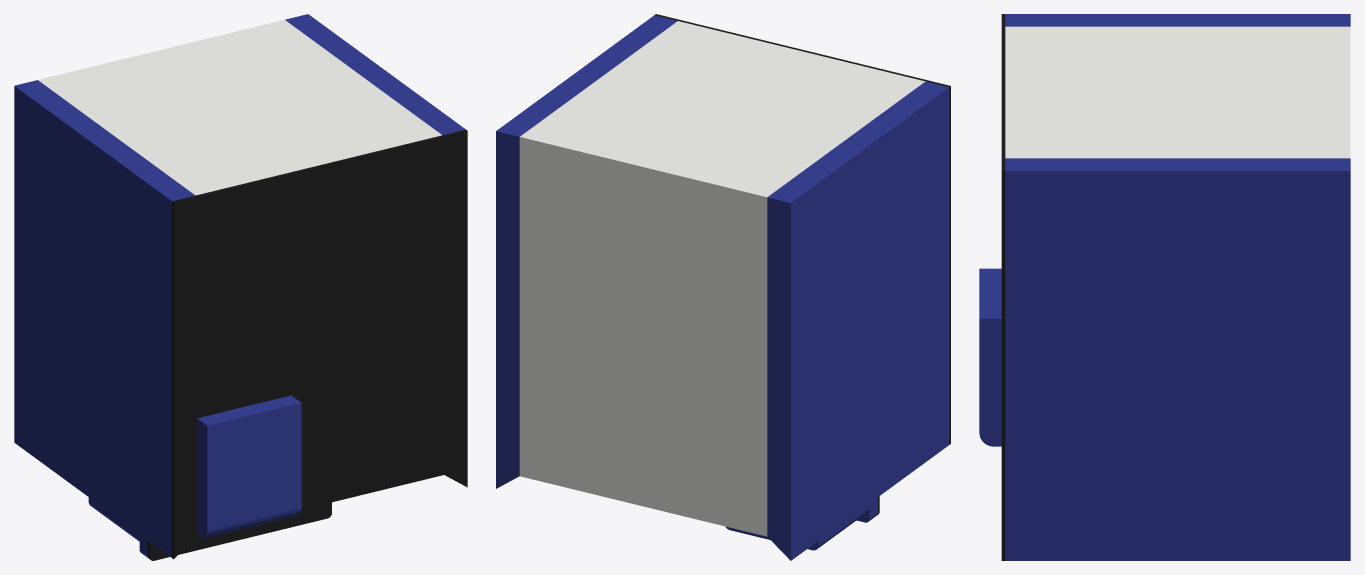
File: Analisis quimico v8.fbx
3 renders of one model, left to right at view 1: azimuth 30°, elevation 25°; view 2: azimuth 150°, elevation 25°; view 3: azimuth 270°, elevation 25°, orthographic. The views are drawn at different scales.
Parts seen in each view (by area): view 1: Body7, Body1, Body3, Body6, Body2, Body10; view 2: Body3, Body1, Body2, Body7, Body5; view 3: Body2, Body3, Body1, Body6, Body7.
Boxes of the visible parts, x1=… form: Body7: x1=172, y1=129, x2=467, y2=559; Body1: x1=14, y1=80, x2=195, y2=557; Body3: x1=38, y1=20, x2=441, y2=195; Body6: x1=197, y1=395, x2=301, y2=538; Body2: x1=285, y1=14, x2=465, y2=135; Body10: x1=148, y1=502, x2=331, y2=560; Body3: x1=519, y1=21, x2=925, y2=536; Body1: x1=767, y1=81, x2=949, y2=560; Body2: x1=496, y1=15, x2=677, y2=488; Body7: x1=654, y1=14, x2=950, y2=444; Body5: x1=725, y1=504, x2=869, y2=550; Body2: x1=1005, y1=158, x2=1350, y2=560; Body3: x1=1005, y1=26, x2=1350, y2=158; Body1: x1=1005, y1=14, x2=1350, y2=26; Body6: x1=979, y1=268, x2=1001, y2=446; Body7: x1=1001, y1=14, x2=1005, y2=560.
Bounding box in the file's own units: 100 × 130 × 100.
